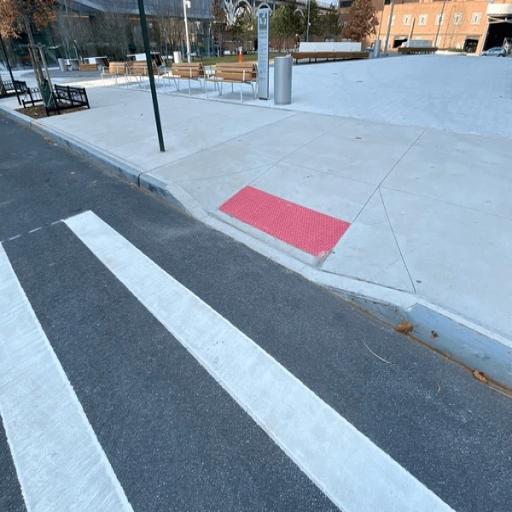kerb_cut: (197, 165, 385, 291)
tgsi: (217, 181, 350, 258)
